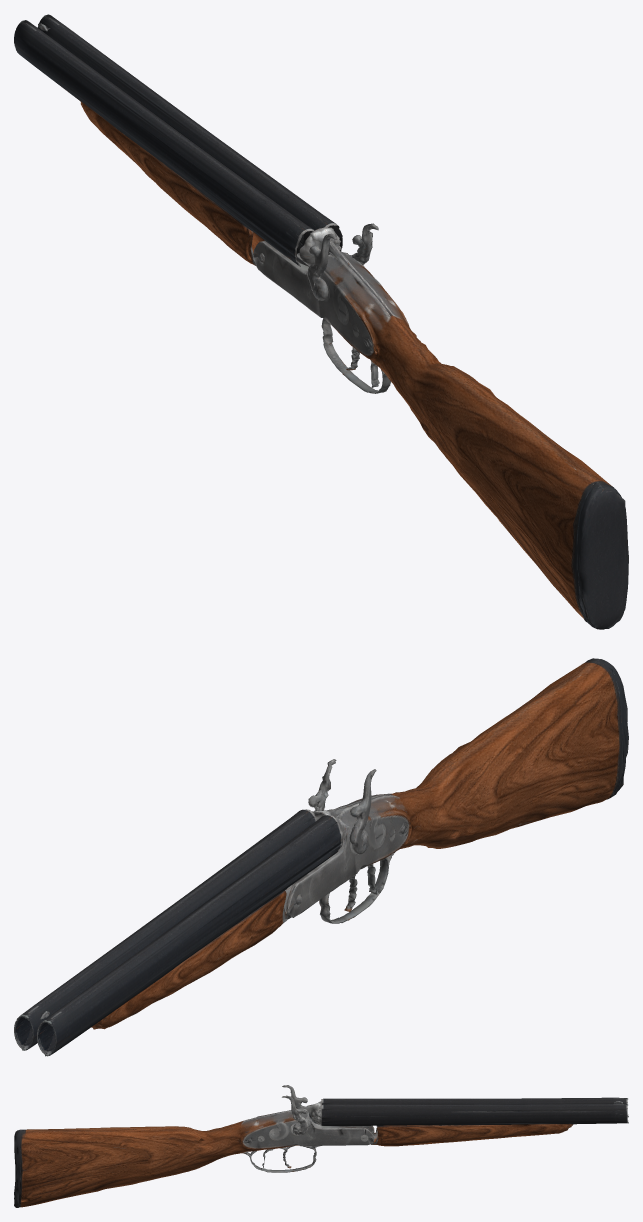
Rendered from weapon-coach-gun.glb.
The picture shows the model from 3 angles, top to bottom: view 1: azimuth 30°, elevation 25°; view 2: azimuth 150°, elevation 25°; view 3: azimuth 270°, elevation 25°; orthographic projection. The views are drawn at different scales.
Parts seen in each view (by area): view 1: coach_gun, Barrels; view 2: coach_gun, Barrels; view 3: coach_gun, Barrels.
Part boxes in pixels (left/top/right/bottom): coach_gun: left=253, top=223, right=628, bottom=629; Barrels: left=14, top=14, right=342, bottom=266; coach_gun: left=284, top=658, right=628, bottom=923; Barrels: left=14, top=809, right=342, bottom=1056; coach_gun: left=14, top=1085, right=377, bottom=1207; Barrels: left=321, top=1097, right=628, bottom=1146.
Size of the model in its own units: 0.0534 by 0.1976 by 0.95.
Materials: 1 (1 with a texture image).
